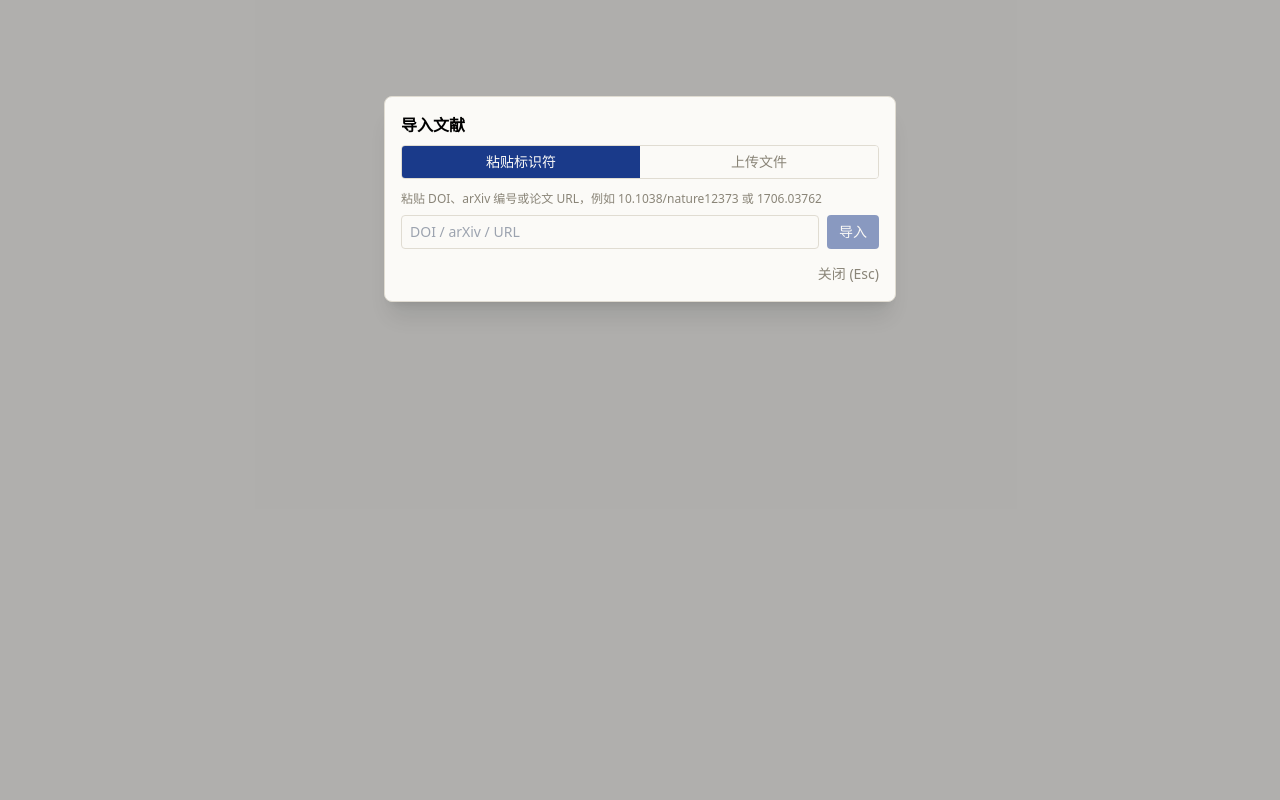
Scenario: 导入对话框 › 粘贴新 DOI → 显示导入结果（标题 + 已下载 PDF 徽标）
The image size is (1280, 800).
Step 1. Type "10.1038/nature12373" into the field named "标识符" → (610, 232), box [401,215,819,249]
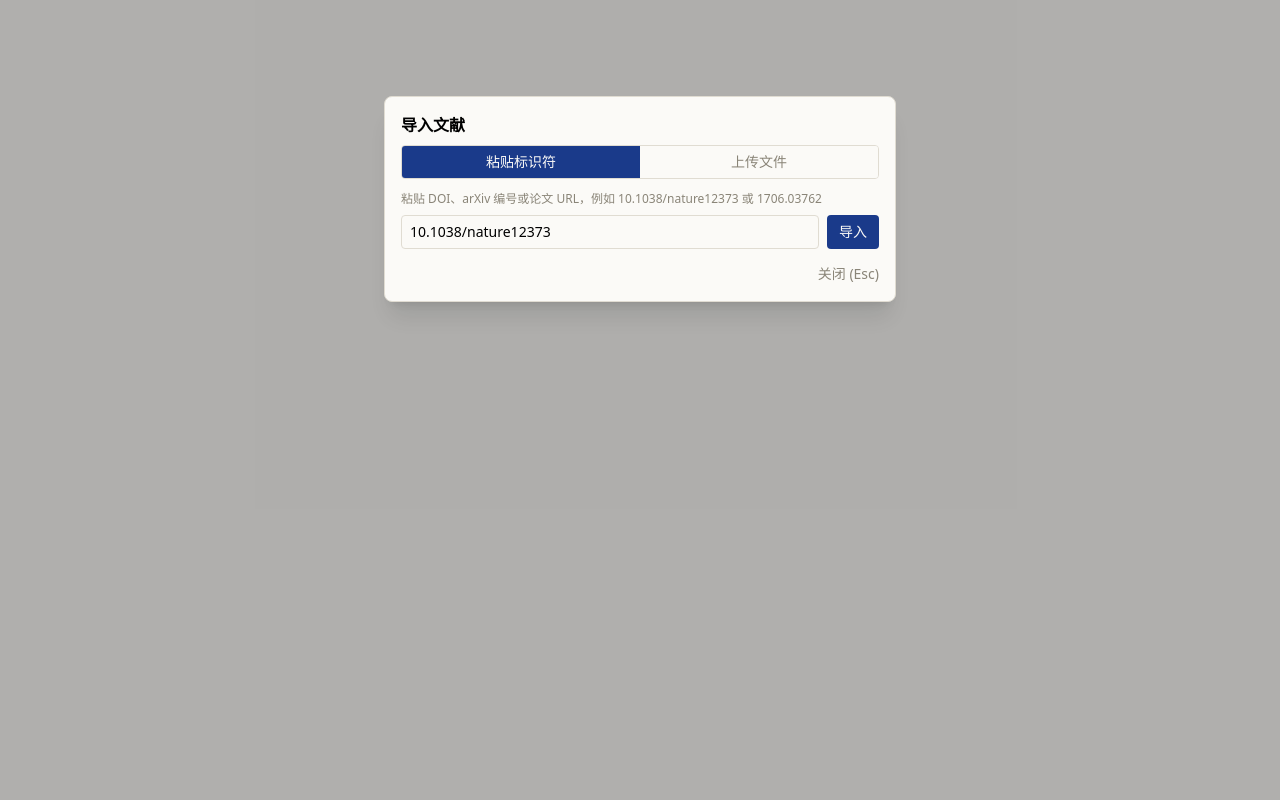
Step 2. Click the button "导入" → (853, 232), box [827,215,879,249]
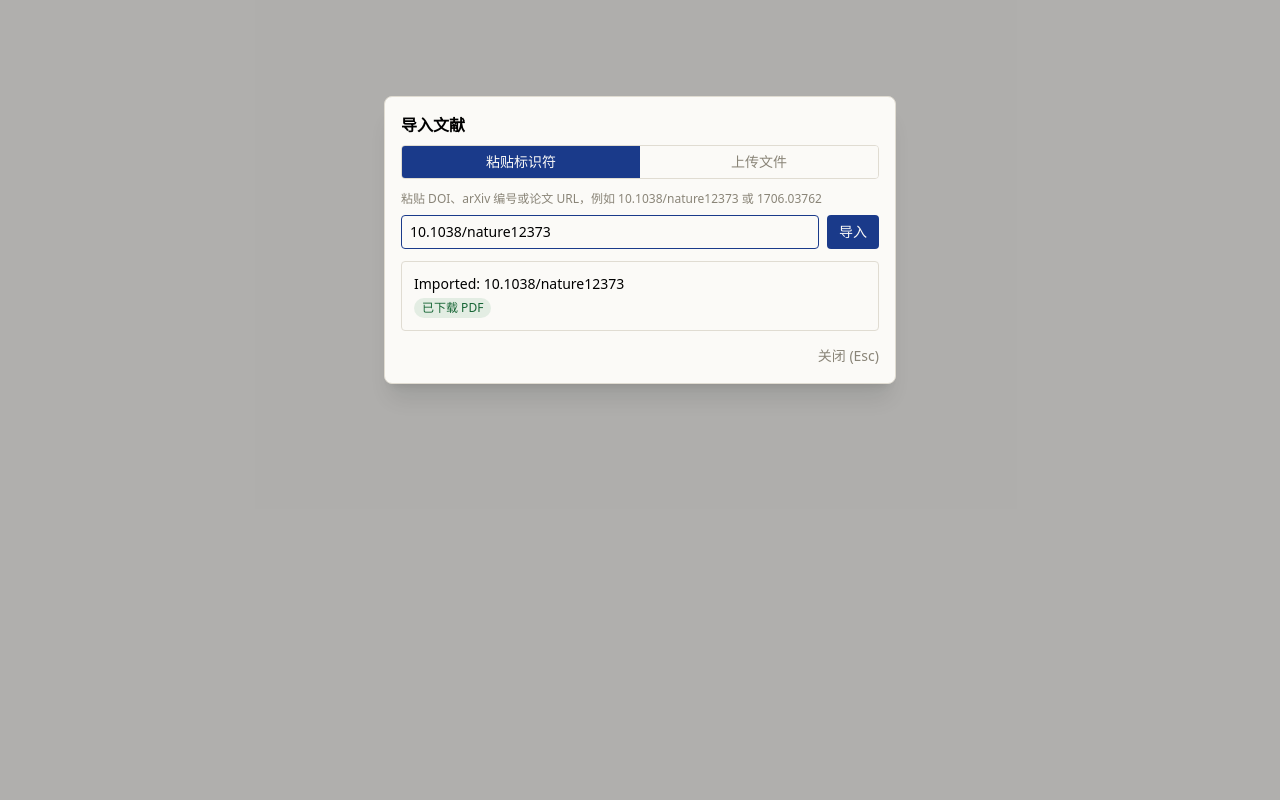
Check: the element named "导入结果" does not show "重复条目", box [401,261,879,331]
Check: the element named "导入结果" shows "10.1038/nature12373", box [414,274,624,293]
Check: the element named "导入结果" shows "已下载 PDF", box [422,299,483,316]
